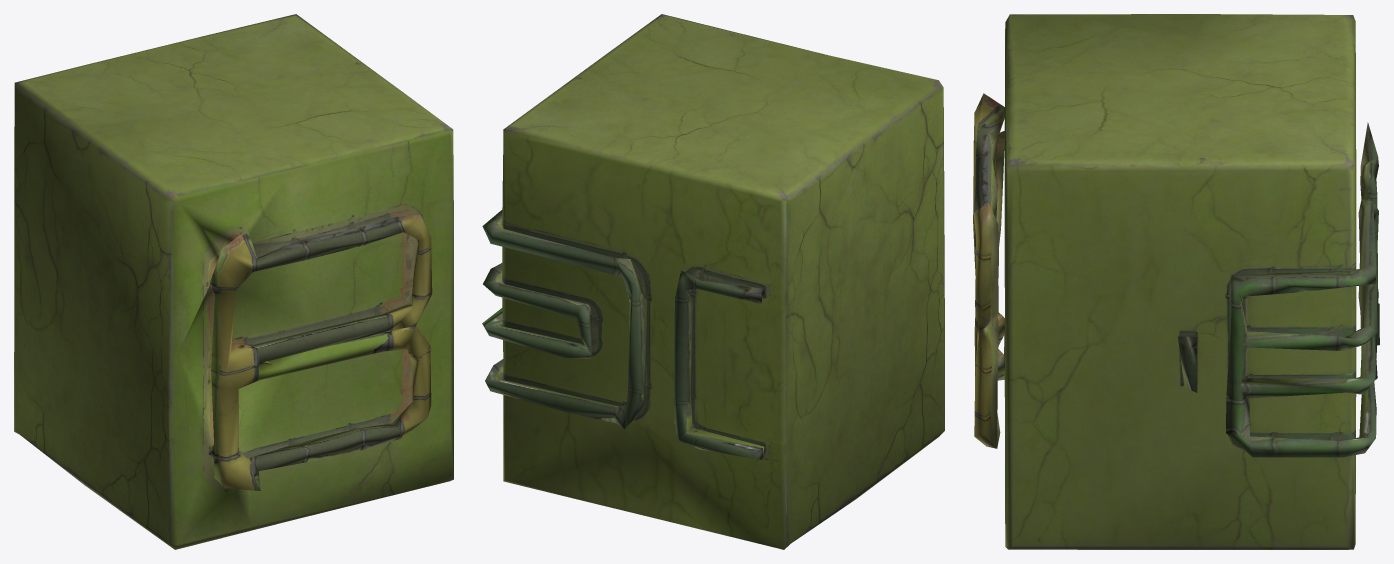
The model's file is wall.glb.
3 renders of one model, left to right at view 1: azimuth 30°, elevation 25°; view 2: azimuth 150°, elevation 25°; view 3: azimuth 270°, elevation 25°, orthographic. The views are drawn at different scales.
Parts seen in each view (by area): view 1: Mesh1; view 2: Mesh1; view 3: Mesh1.
Boxes of the visible parts, x1,y1,x2,y2 form: Mesh1: [14, 14, 453, 549]; Mesh1: [482, 14, 944, 549]; Mesh1: [973, 14, 1379, 549].
Size of the model in its own units: 1.8 by 2 by 1.89.
1 material, 1 textured.
